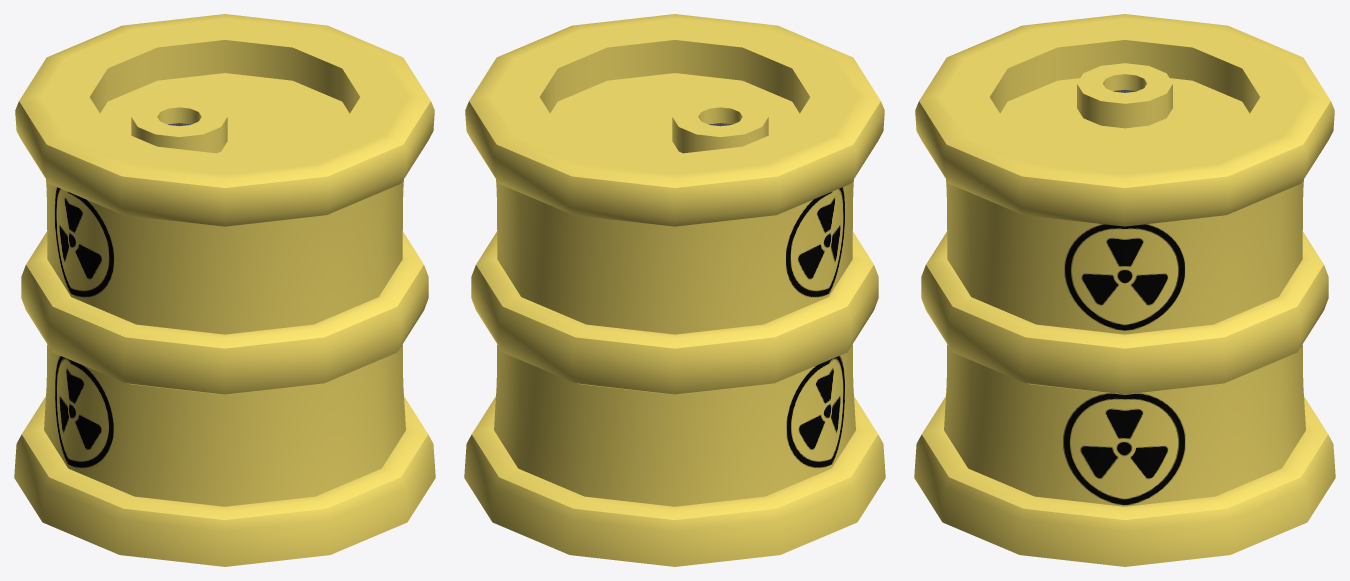
The model's file is Barrel_D.fbx.
3 renders of one model, left to right at view 1: azimuth 30°, elevation 25°; view 2: azimuth 150°, elevation 25°; view 3: azimuth 270°, elevation 25°, orthographic.
Visible parts, largest first — view 1: Barrel_D; view 2: Barrel_D; view 3: Barrel_D.
Part boxes in pixels (x1,y1,x2,y2): Barrel_D: [14, 14, 435, 566]; Barrel_D: [464, 14, 885, 566]; Barrel_D: [914, 14, 1335, 566].
Bounding box in the file's own units: 161 × 160 × 161.
